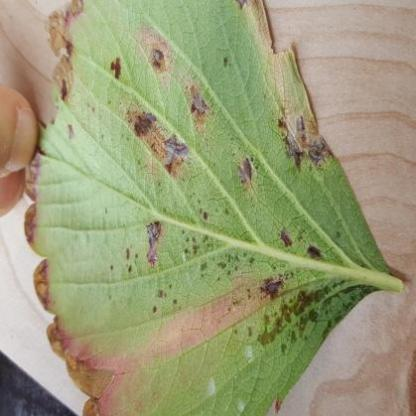Strawberry_Angular_LeafSpot: (23, 0, 394, 415)
